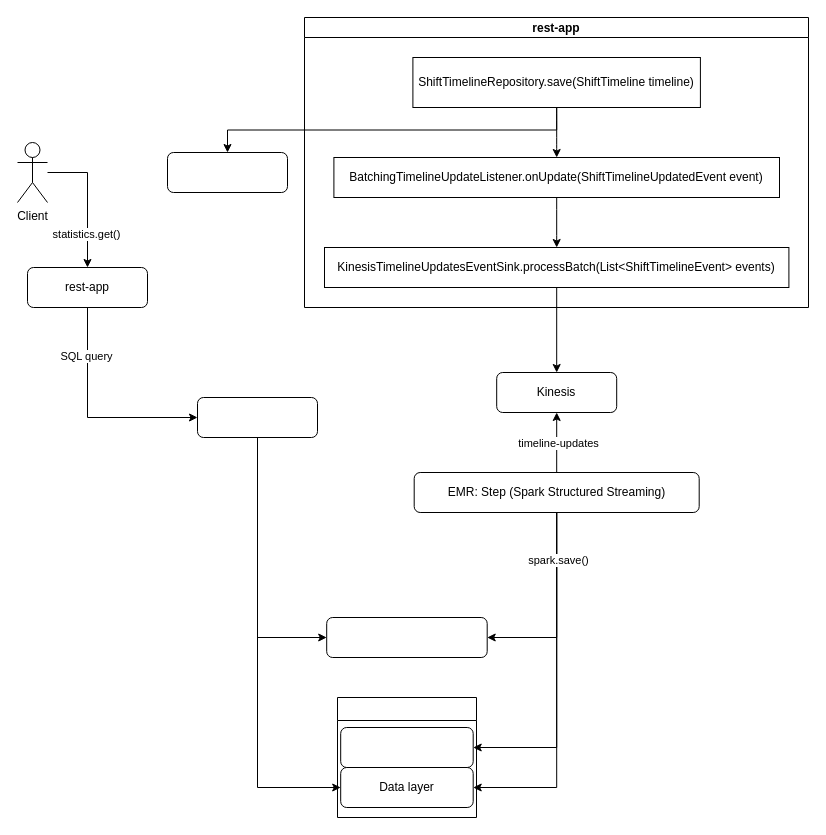
Some shapes in this 826 by 835 pixel diagram are drawn without their labels. The box of each missing label's shape, as (x1, y1, x2, y2) in pixels:
Athena: (196, 396, 318, 438)
AWS Glue Hive metastore: (326, 616, 487, 658)
Delta Lake: (340, 726, 473, 768)
MariaDB: (166, 152, 288, 192)
S3: (336, 696, 476, 818)
